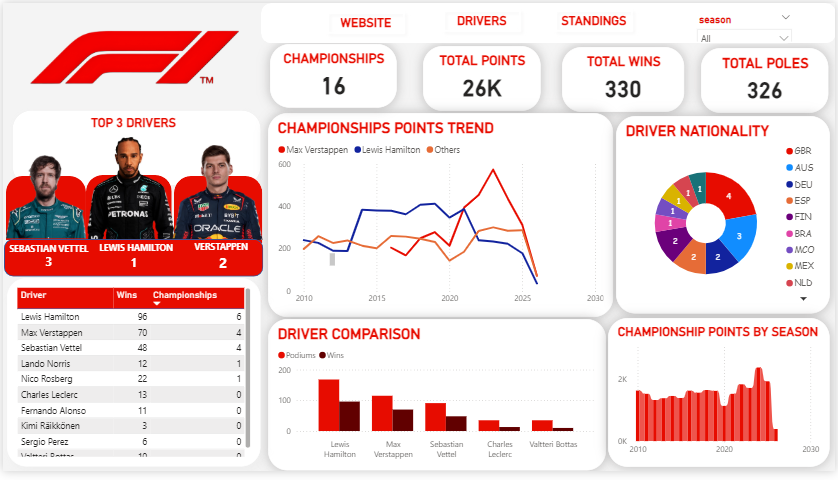

Layout of this report page (visuals, bound fields, positions):
{"tool":"powerbi","page":{"name":"OVERVIEW","canvas":[1280,720],"ordinal":0},"visuals":[{"type":"shape","box":[10.3,162.1,389.7,122.4],"z":0},{"type":"card","title":"TOTAL POINTS","fields":{"Values":["driver_standings.Total Points"]},"box":[646.6,65.5,181,100],"z":1000},{"type":"card","title":"TOTAL POLES","fields":{"Values":["driver_standings.Total Poles"]},"box":[1074.5,68.6,196.1,100],"z":2000},{"type":"card","title":"TOTAL WINS","fields":{"Values":["driver_standings.Total Wins"]},"box":[860.3,67.2,187.9,100],"z":3000},{"type":"lineChart","title":"CHAMPIONSHIPS POINTS TREND","fields":{"Category":["driver_standings.season"],"Y":["driver_standings.Max Verstappen Points","driver_standings.Lewis Hamilton Points","driver_standings.Others Points average per total_points"]},"box":[407.8,168.6,531.4,313.7],"z":4000},{"type":"card","title":"CHAMPIONSHIPS","fields":{"Values":["driver_standings.World Championships"]},"box":[410.3,63.8,194.8,98.3],"z":5000},{"type":"clusteredColumnChart","title":"DRIVER COMPARISON","fields":{"Category":["driver_standings.driver_name"],"Y":["driver_standings.Total Podiums","driver_standings.Total Wins"]},"box":[407.8,486.3,519.6,233.3],"z":6000},{"type":"donutChart","title":"DRIVER NATIONALITY","fields":{"Category":["driver_standings.country_iso3"],"Y":["Count(driver_standings.driver_name)"]},"box":[943.1,174.5,329.4,303.9],"z":7000},{"type":"tableEx","fields":{"Values":["driver_standings.driver_name","driver_standings.Total Wins","driver_standings.World Championships"]},"box":[6.9,422.4,389.7,289.7],"z":8000},{"type":"shape","box":[3.8,265.4,123.1,98.7],"z":9000},{"type":"ribbonChart","title":"CHAMPIONSHIP POINTS BY SEASON","fields":{"Category":["driver_standings.season"],"Y":["driver_standings.Total Points"]},"box":[931.4,484.3,341.2,229.4],"z":10000},{"type":"shape","box":[262.8,266.7,135.9,103.8],"z":11000},{"type":"shape","box":[128.2,264.1,132.1,101.3],"z":12000},{"type":"image","box":[102.6,206.4,187.2,157.7],"z":13000},{"type":"image","box":[259,217.9,143.6,146.2],"z":14000},{"type":"image","box":[5.1,202.6,123.1,189.7],"z":15000},{"type":"shape","box":[1.3,362.8,398.7,57.7],"z":16000},{"type":"shape","box":[396.6,0,884.5,62.1],"z":17000},{"type":"textbox","box":[142.3,362.8,187.2,33.3],"z":18000},{"type":"textbox","box":[3.8,364.1,187.2,33.3],"z":19000},{"type":"textbox","box":[289.7,361.5,187.2,33.3],"z":20000},{"type":"textbox","box":[191.4,381,22.4,37.9],"z":21000},{"type":"textbox","box":[327.6,379.3,187.9,32.8],"z":22000},{"type":"textbox","box":[60.3,379.3,405.2,36.2],"z":23000},{"type":"image","box":[42,27.5,326.1,107.2],"z":24000},{"type":"textbox","box":[50,167.2,300,37.9],"z":25000},{"type":"slicer","fields":{"Values":["driver_standings.season"]},"box":[1048.3,0,186.2,62.1],"z":26000},{"type":"actionButton","box":[489.7,5.2,137.9,51.7],"z":27000},{"type":"actionButton","box":[667.2,1.7,137.9,51.7],"z":28000},{"type":"actionButton","box":[839.7,1.7,137.9,51.7],"z":29000}]}

Visuals, with their boxes in screenshot pixels (x1, y1, x2, y2), scaled from the page's 1280x720 canvas onto the 838x480 screenshot:
shape: crop(7, 108, 262, 190)
"TOTAL POINTS" card: crop(423, 44, 542, 110)
"TOTAL POLES" card: crop(703, 46, 832, 112)
"TOTAL WINS" card: crop(563, 45, 686, 111)
"CHAMPIONSHIPS POINTS TREND" lineChart: crop(267, 112, 615, 322)
"CHAMPIONSHIPS" card: crop(269, 43, 396, 108)
"DRIVER COMPARISON" clusteredColumnChart: crop(267, 324, 607, 479)
"DRIVER NATIONALITY" donutChart: crop(617, 116, 833, 319)
tableEx - driver_standings.driver_name x driver_standings.Total Wins: crop(5, 282, 260, 475)
shape: crop(2, 177, 83, 243)
"CHAMPIONSHIP POINTS BY SEASON" ribbonChart: crop(610, 323, 833, 476)
shape: crop(172, 178, 261, 247)
shape: crop(84, 176, 170, 244)
image: crop(67, 138, 190, 243)
image: crop(170, 145, 264, 243)
image: crop(3, 135, 84, 262)
shape: crop(1, 242, 262, 280)
shape: crop(260, 0, 837, 41)
textbox: crop(93, 242, 216, 264)
textbox: crop(2, 243, 125, 265)
textbox: crop(190, 241, 312, 263)
textbox: crop(125, 254, 140, 279)
textbox: crop(214, 253, 337, 275)
textbox: crop(39, 253, 305, 277)
image: crop(27, 18, 241, 90)
textbox: crop(33, 111, 229, 137)
slicer - driver_standings.season: crop(686, 0, 808, 41)
actionButton: crop(321, 3, 411, 38)
actionButton: crop(437, 1, 527, 36)
actionButton: crop(550, 1, 640, 36)
